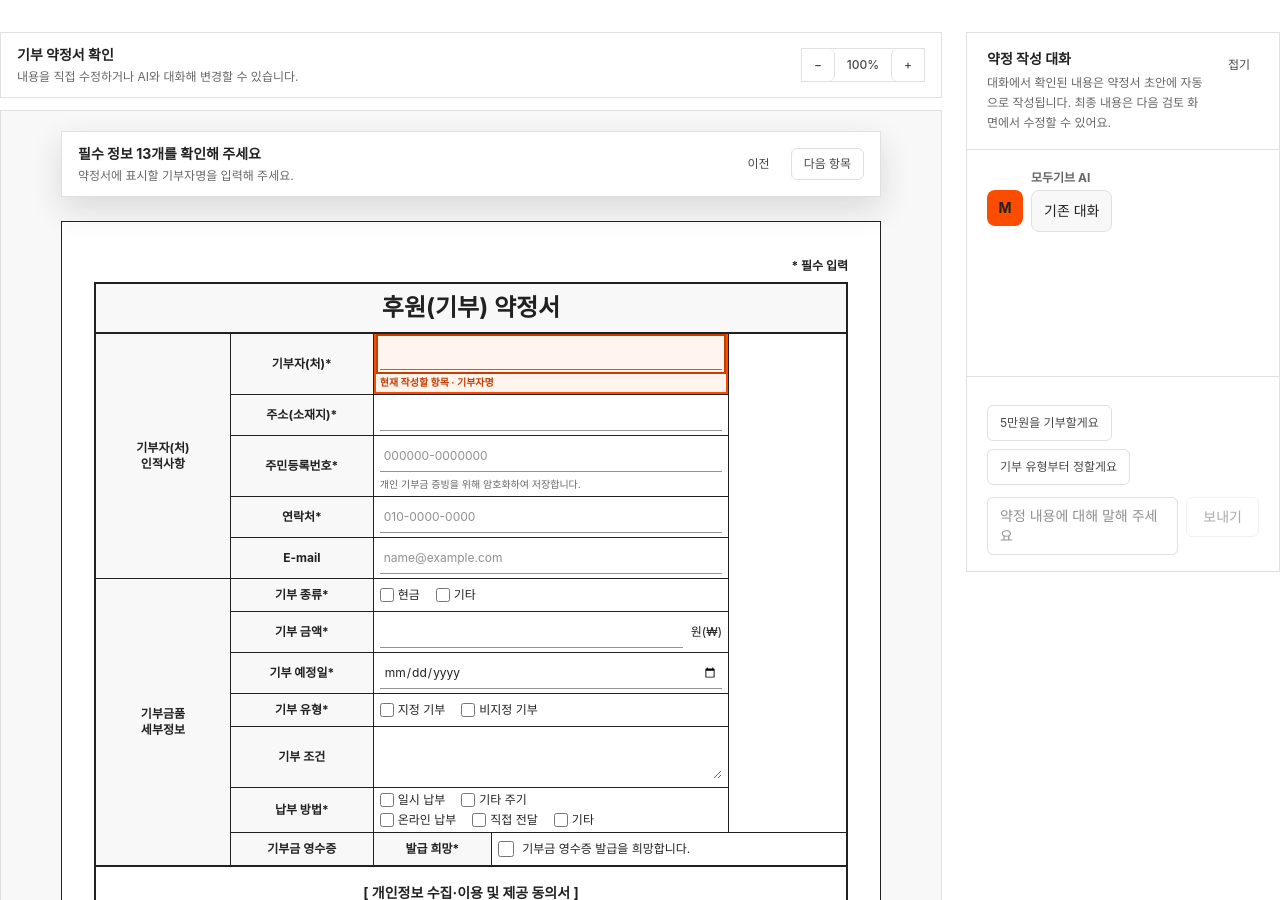
it: pledge review workspace › preserves chat messages after collapsing and reopening the panel
Type "추가 질문" into the text box named "AI에게 메시지 보내기" at point(1083, 526), box [987,497,1178,555]
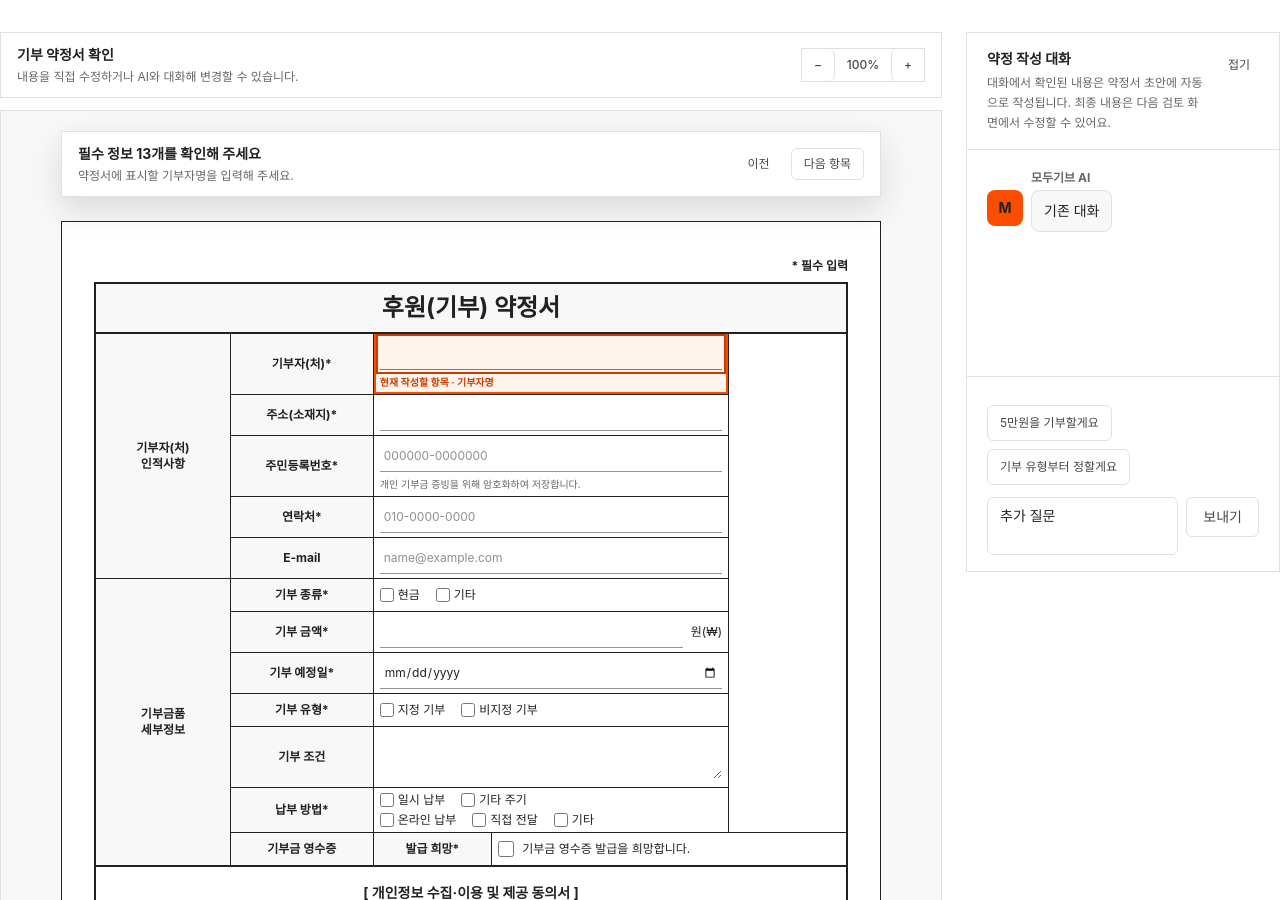
Click the button "보내기" at point(1223, 517), box [1186,497,1259,537]
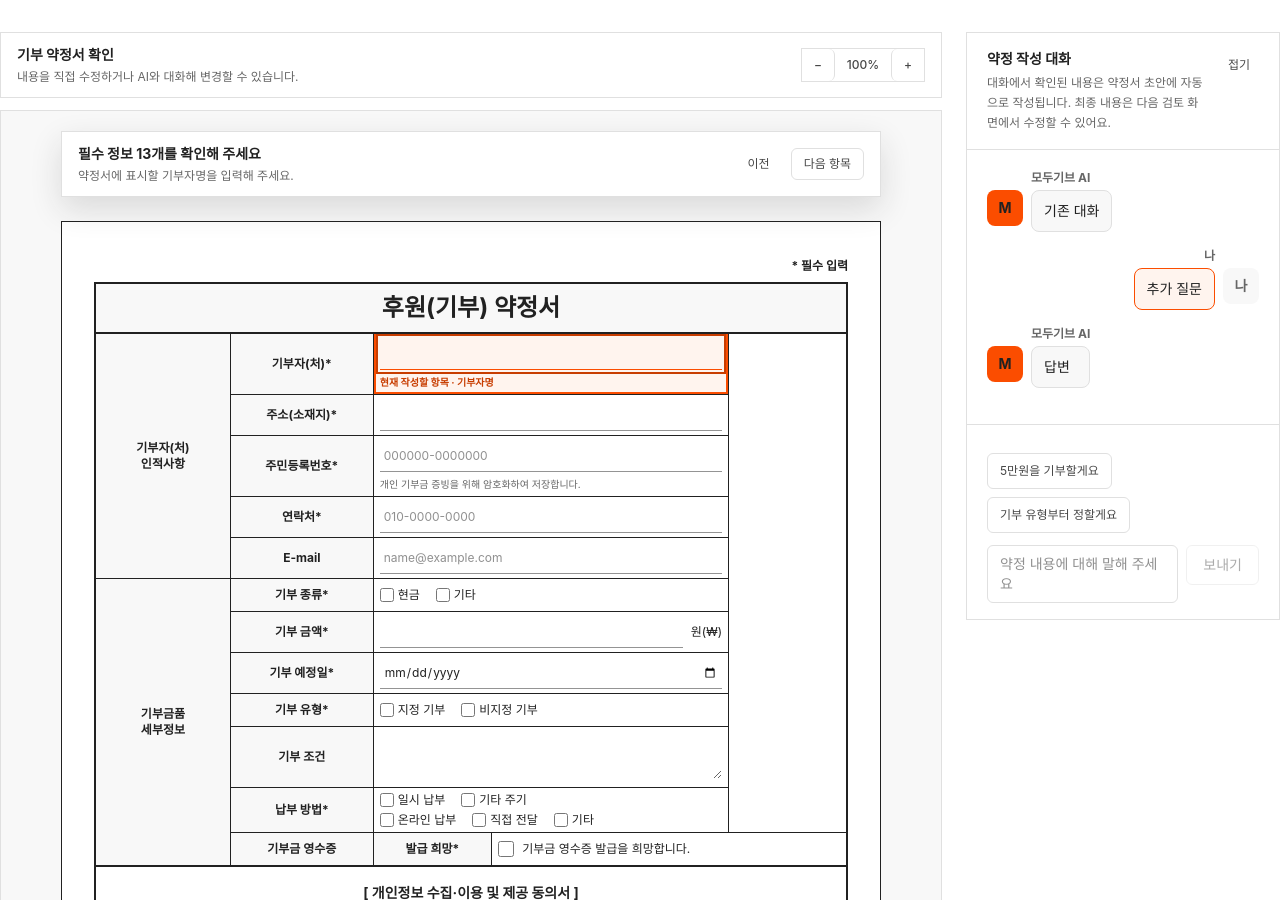
Expected: the text "답변" is shown, [1031,346,1090,388]
Click the button with aria-label "AI 대화창 접기" at point(1239, 65), box [1219,49,1259,81]
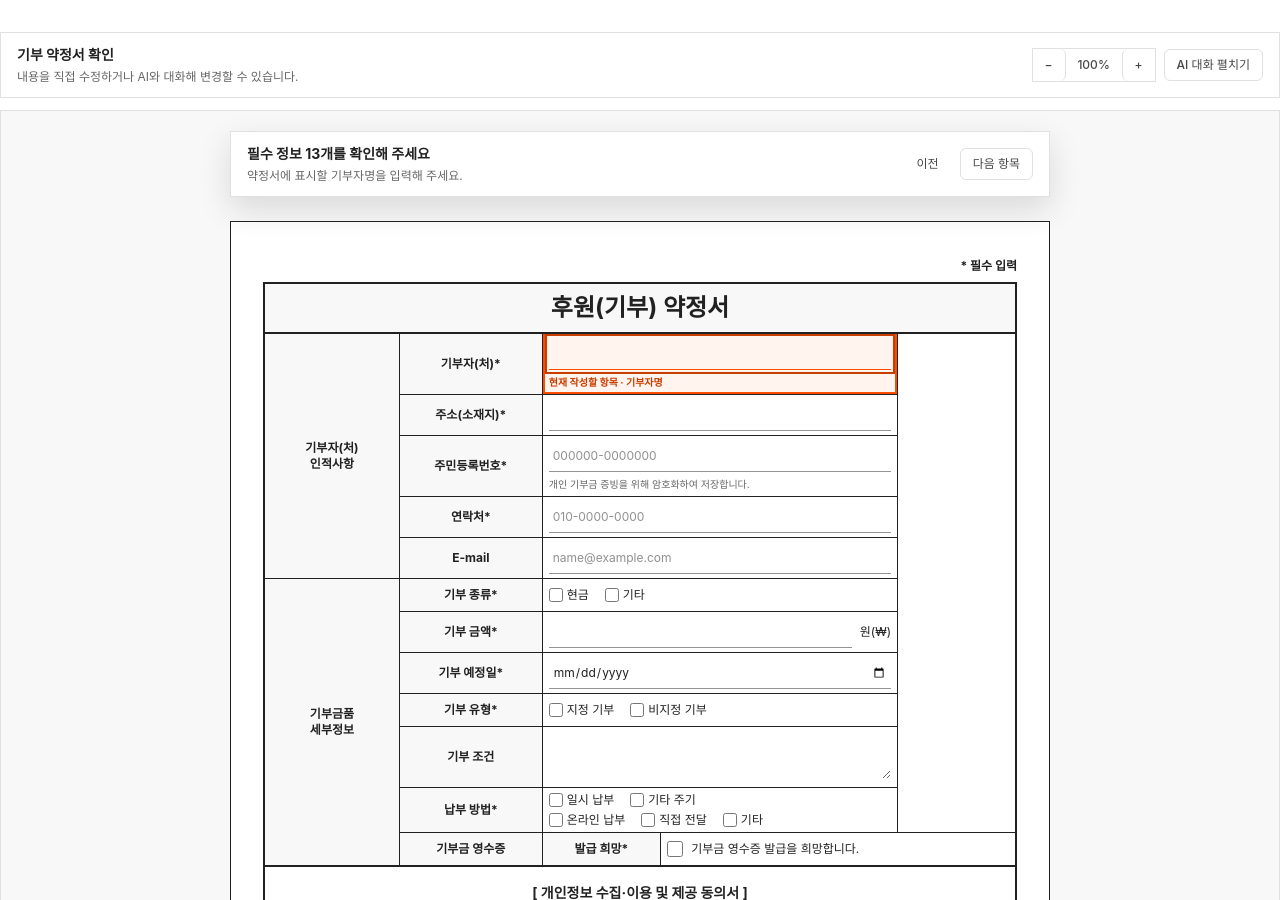
Click the button "AI 대화 펼치기" at point(1213, 65), box [1164,49,1263,81]
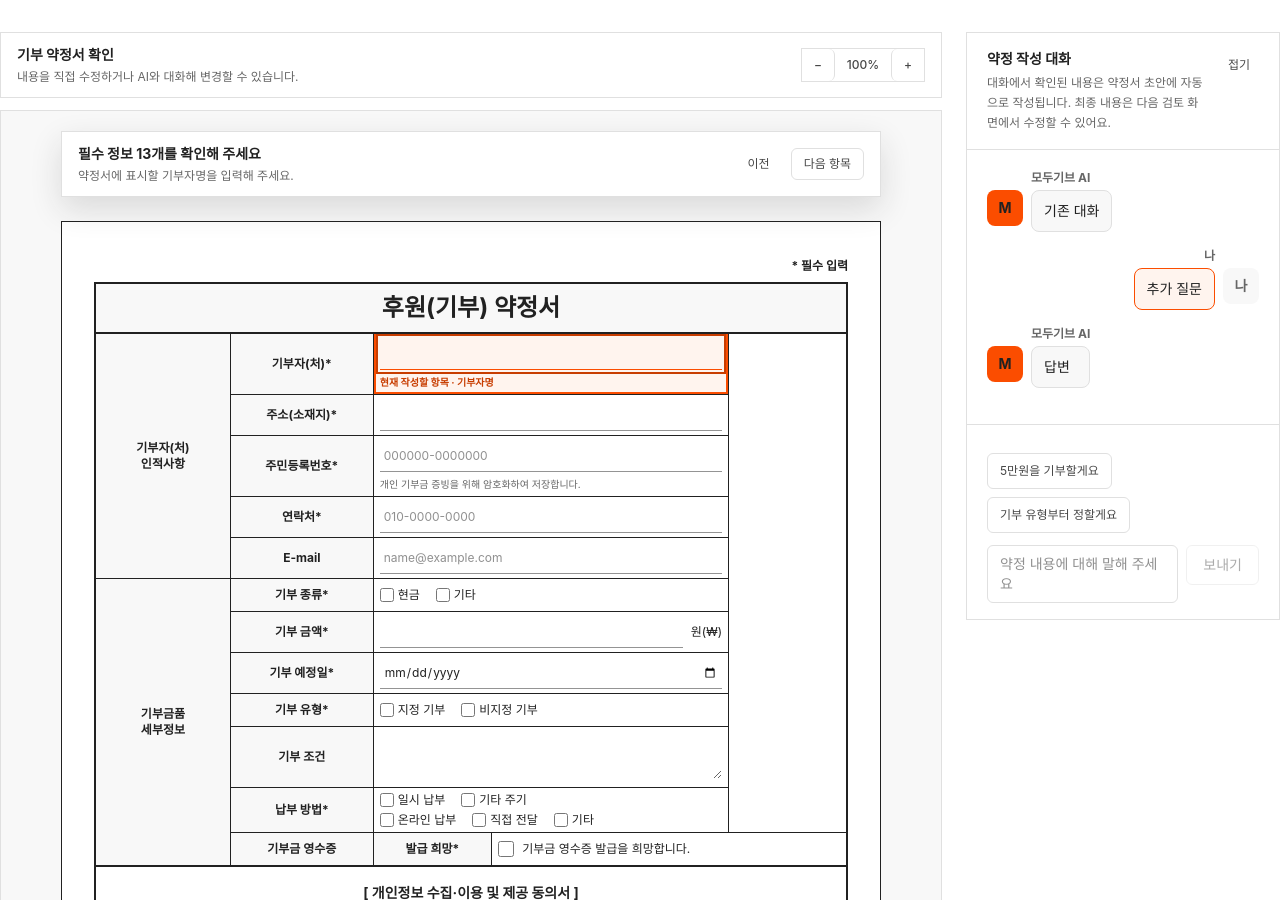
Expected: the text "추가 질문" is shown, [1134,268,1215,310]
Expected: the text "답변" is shown, [1031,346,1090,388]
